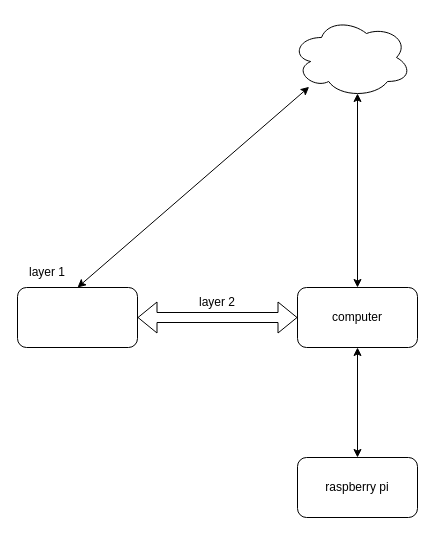
The diagram is 435 pixels wide and 535 high, and some of its shapes have lost their labels. Each missing label, with the centre of its shape:
"flask jetson nano" goes at pixel 77 317.
"Internet" goes at pixel 351 57.
